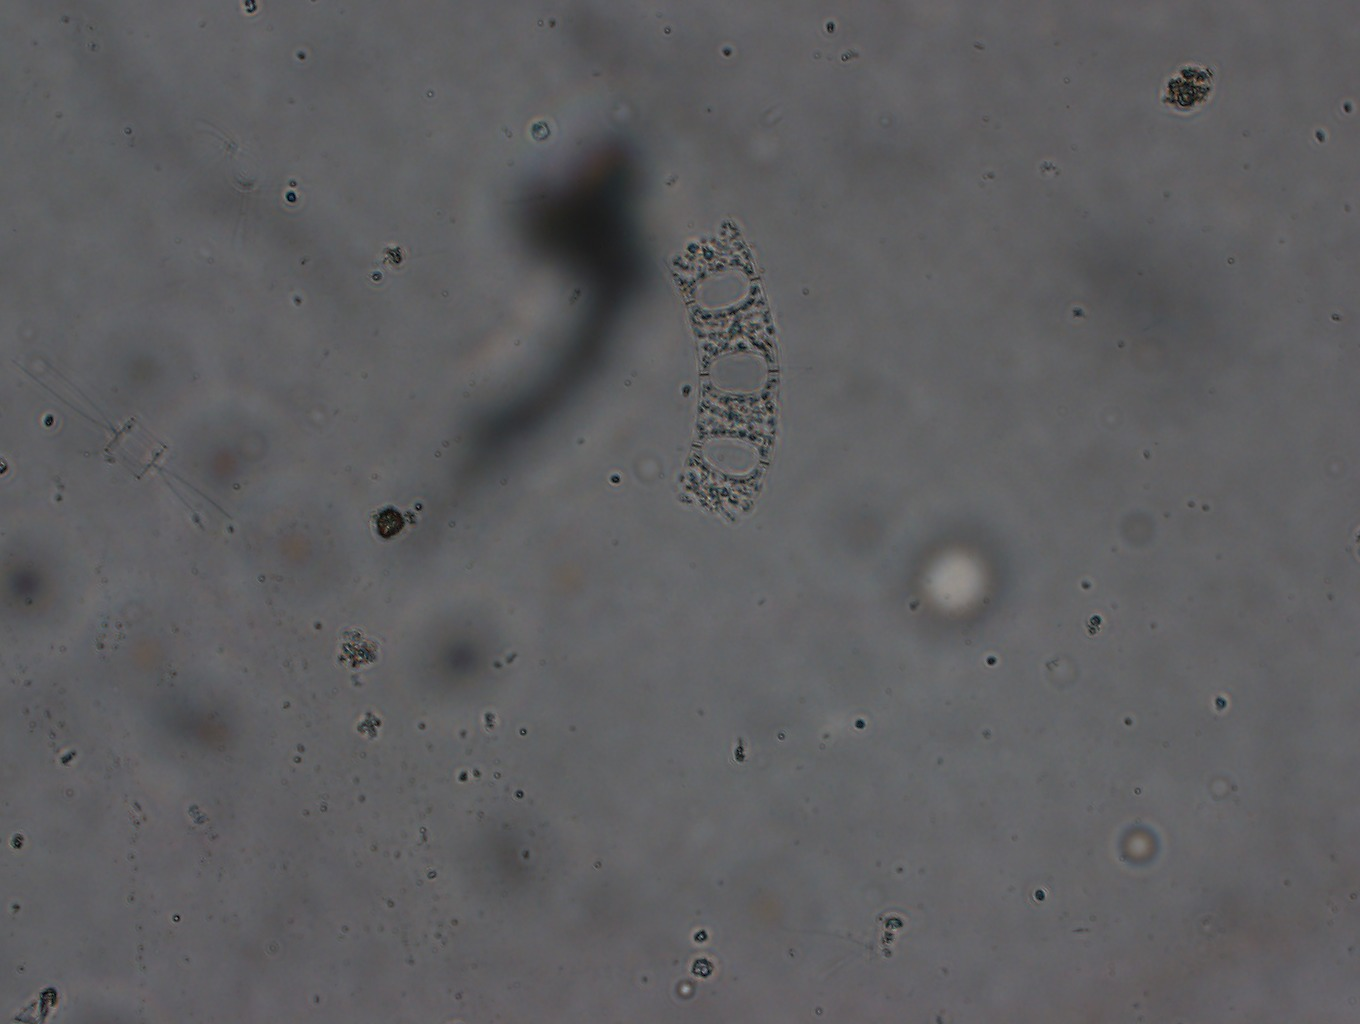chaetoceros: (9, 346, 233, 534)
eucampia: (664, 219, 782, 529)
